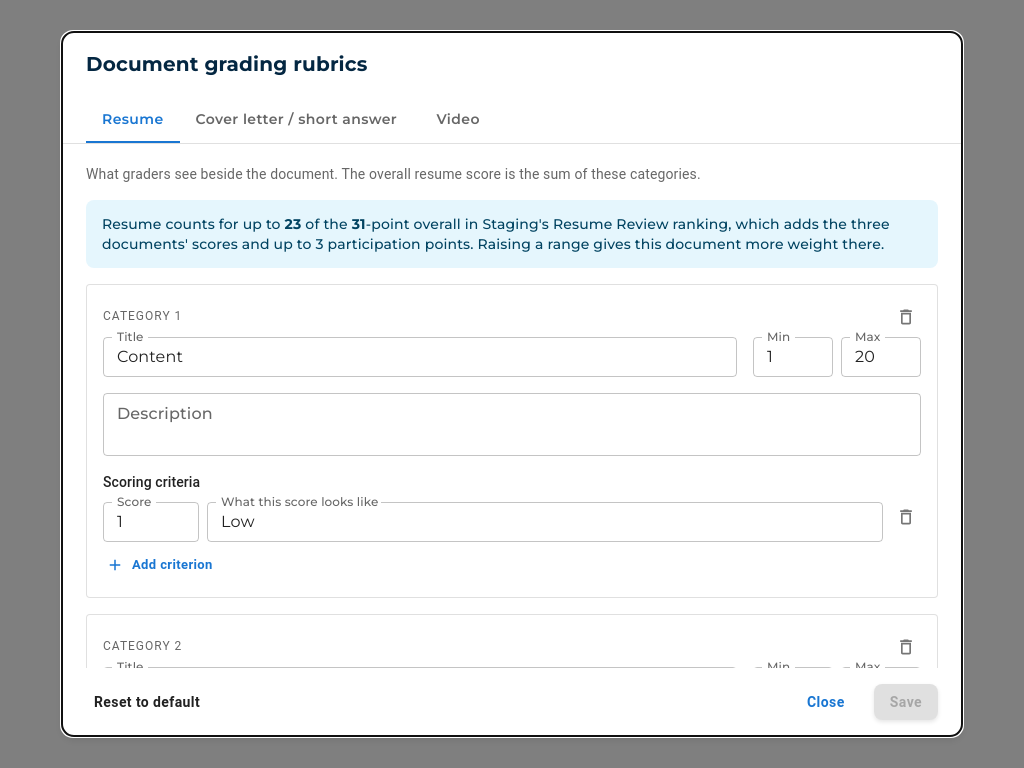
DocumentRubricEditorDialog › warns before a reset narrows a range, and resets only on "Reset anyway"
Expected: the field showing "Content" is shown, [103,337,737,377]
Click the button "Reset to default": (147, 702) [86,684,208,720]
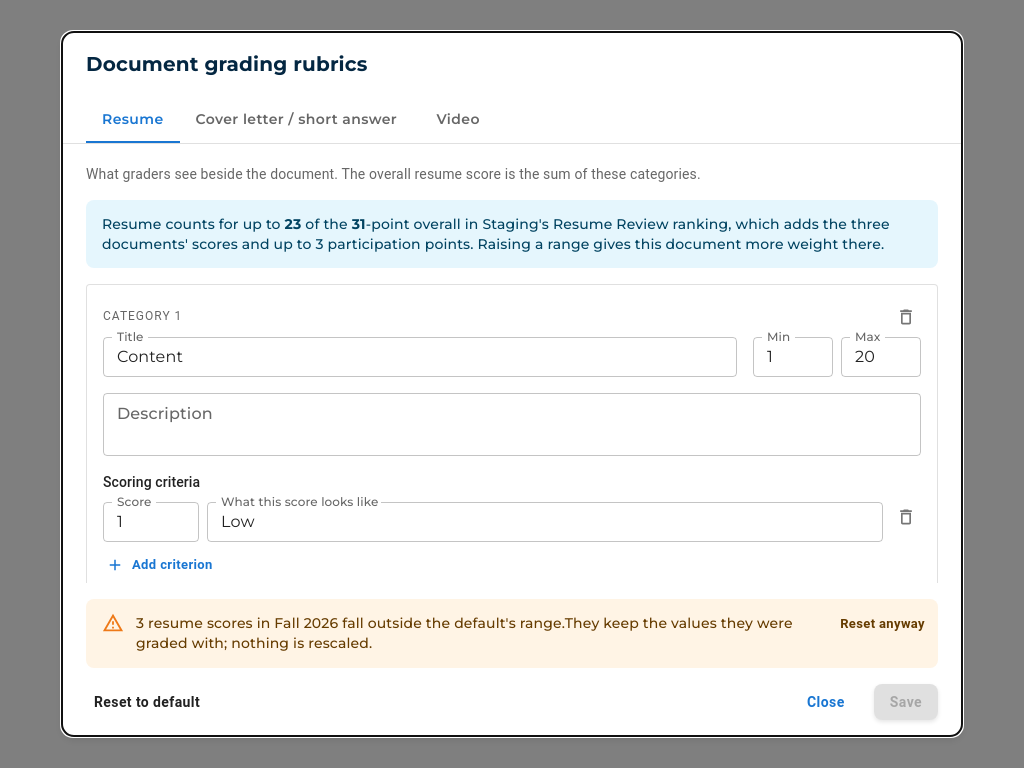
Expected: the text "fall outside" shows "3 resume scores in Fall 2026 fall outside the default's range", [136,606,819,662]
Click the button "Reset anyway": (883, 625) [835,610,930,640]
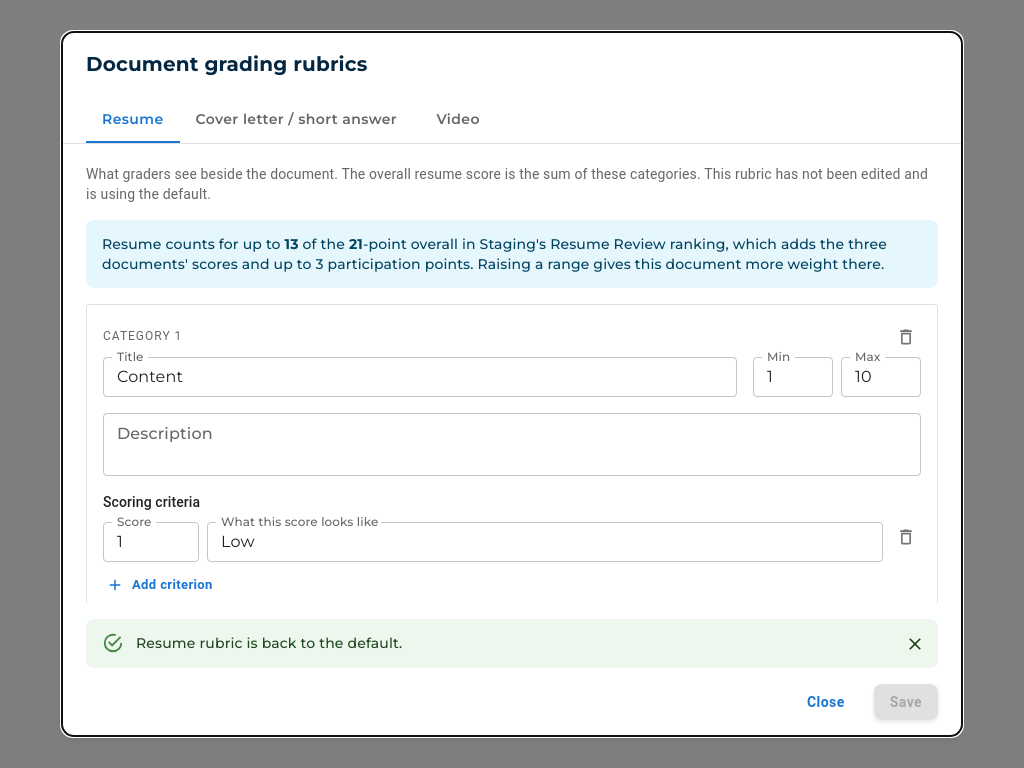
Expected: the text "Resume rubric is back to the default." is shown, [136,634,402,652]
